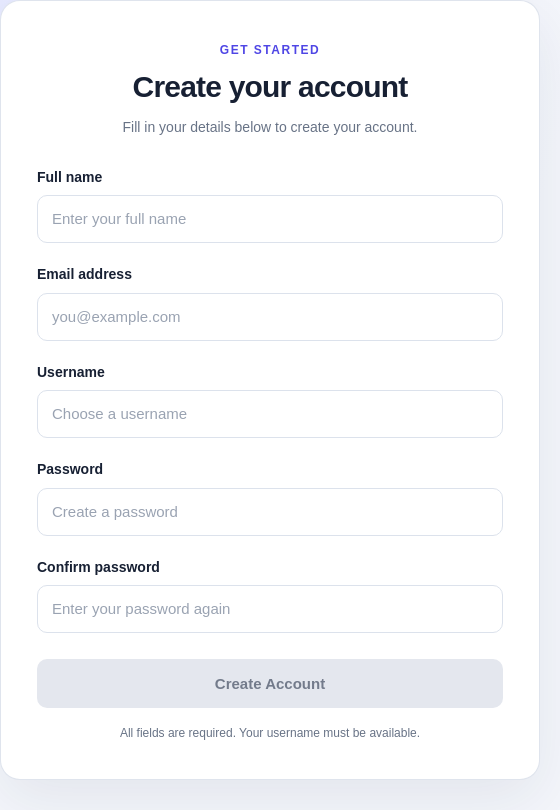
Test: ComplexForm › shows an error when submission fails
Type "Samaya Quliyeva" into the field labelled "Full name". click: point(270, 220)
box: [37,196,503,244]
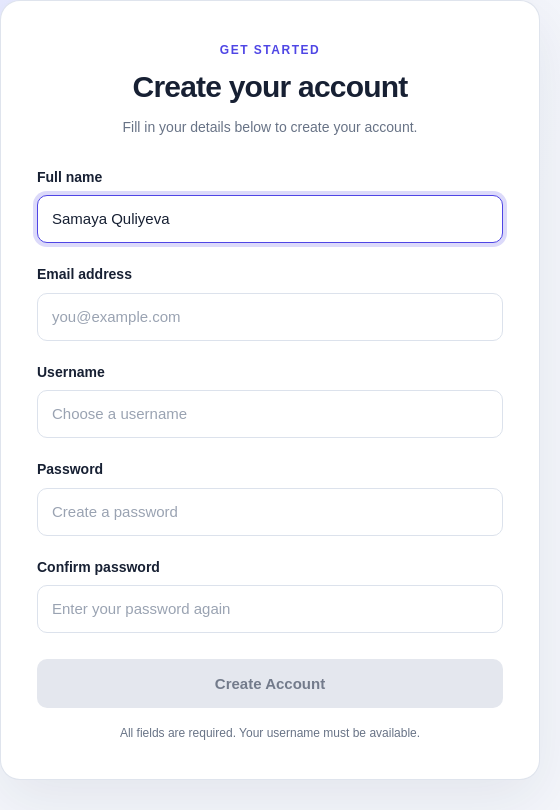
Type "samaya@example.com" into the field labelled "Email address". click: point(270, 317)
box: [37,293,503,341]
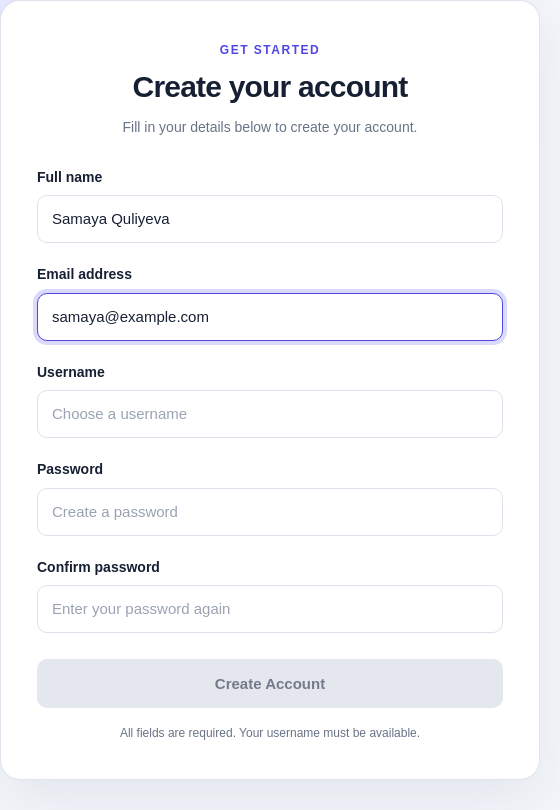
Type "samaya123" into the field labelled "Username". click: point(270, 414)
box: [37,390,503,438]
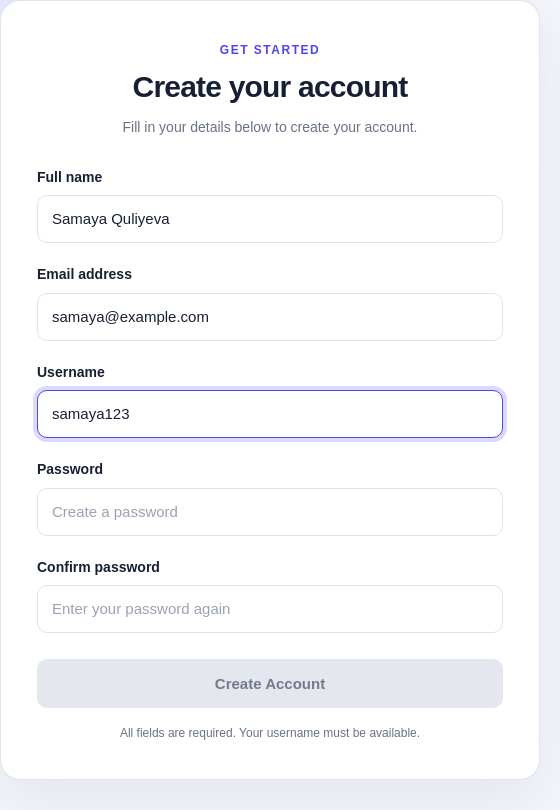
Type "Password123" into the password field labelled "Password". click: point(270, 512)
box: [37,488,503,536]
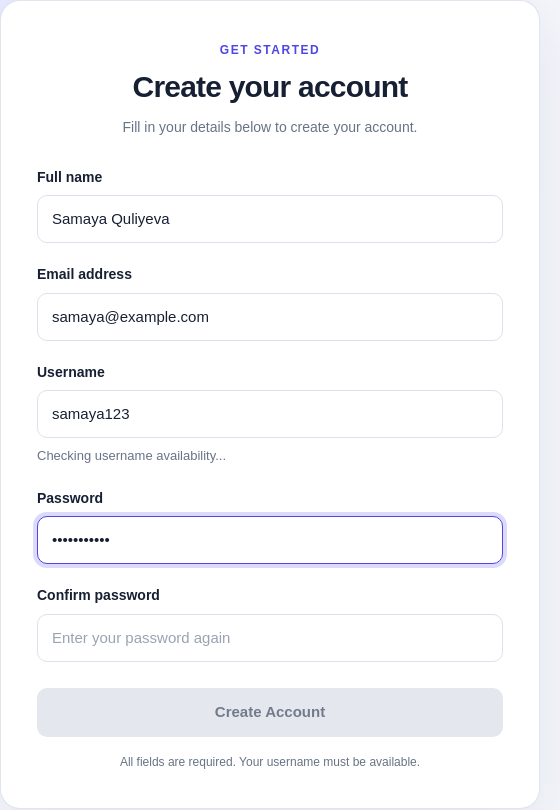
Type "Password123" into the password field labelled "Confirm password". click: point(270, 638)
box: [37,614,503,662]
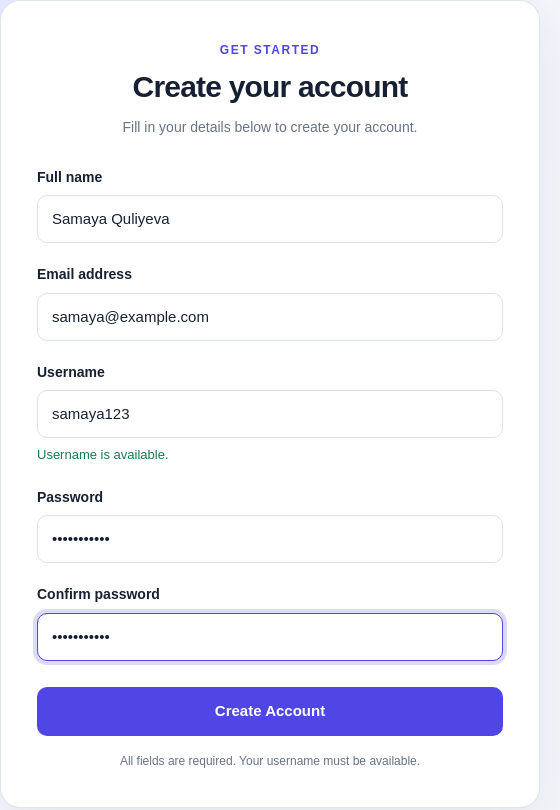
Now the text "Username is available." is shown, box [37,447,168,462]
Now the button "Create Account" is enabled
Click the button "Create Account". click: point(270, 711)
box: [37,687,503,736]
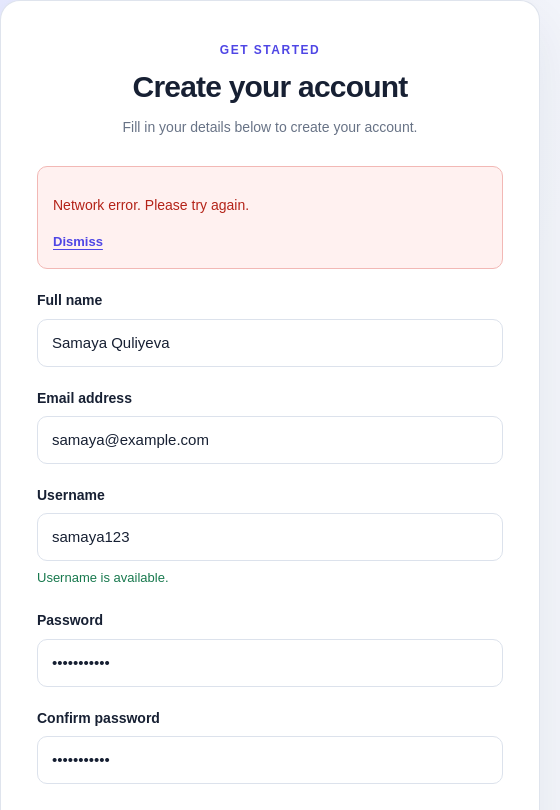
Now the text "Network error. Please try again." is shown, box [53,197,249,213]
